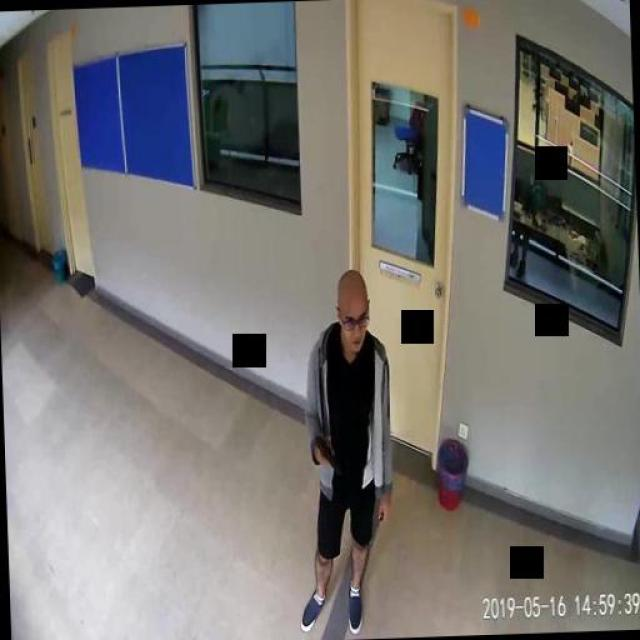gun: (314, 433, 338, 475)
